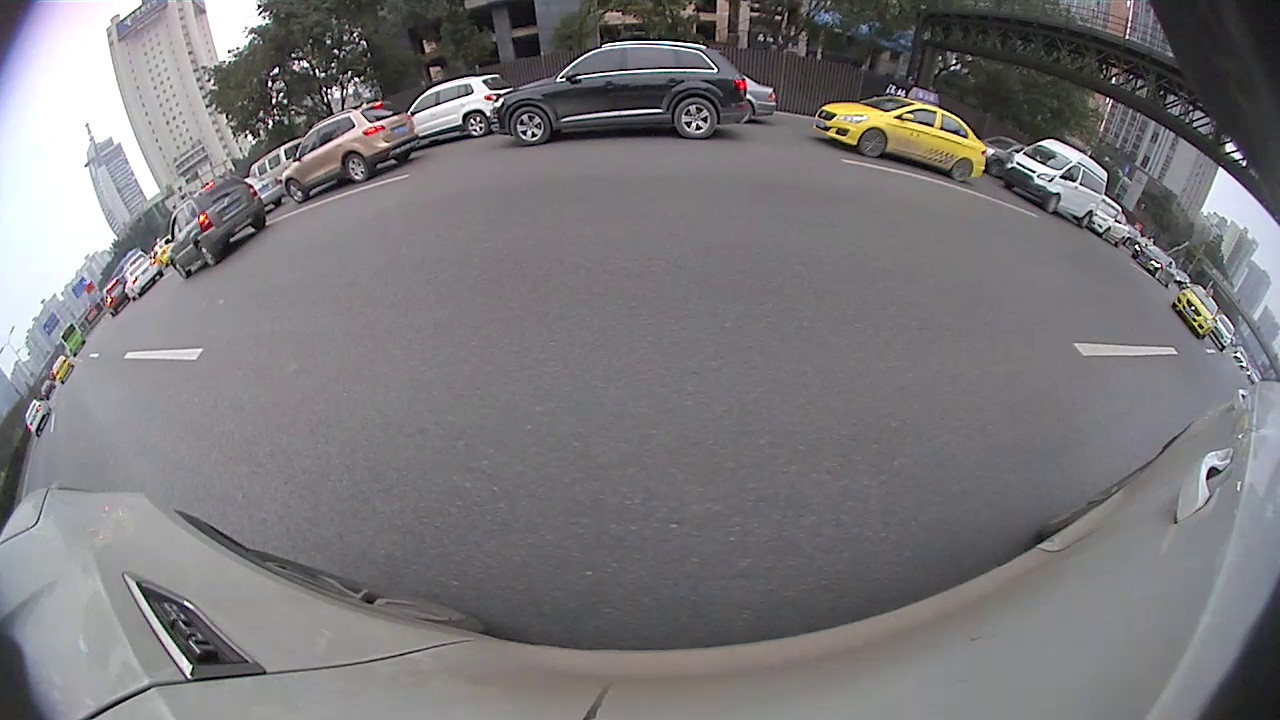car: (498, 40, 751, 147), (811, 87, 989, 183), (281, 100, 420, 204), (166, 178, 266, 280), (1002, 137, 1109, 229), (405, 72, 516, 138), (248, 137, 308, 206), (1170, 282, 1218, 340), (1086, 196, 1130, 250), (1132, 242, 1176, 289), (122, 254, 164, 302), (741, 74, 778, 122), (23, 398, 53, 437)
front: (508, 109, 551, 144), (860, 127, 887, 156), (285, 180, 306, 202), (170, 260, 190, 277), (1046, 196, 1059, 215)
rear: (677, 100, 717, 139), (343, 157, 370, 183), (465, 112, 487, 138), (953, 159, 973, 181), (197, 244, 216, 264), (1079, 211, 1092, 229)
